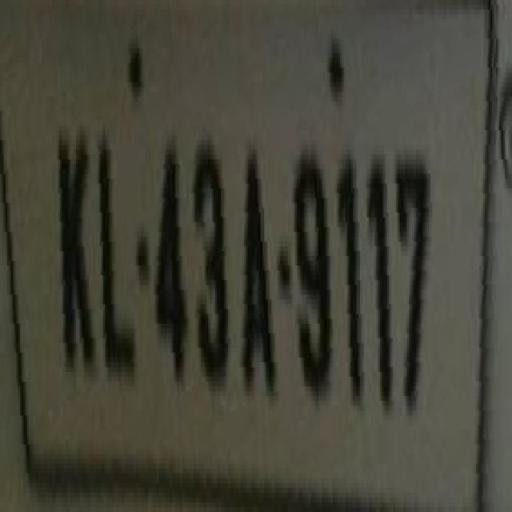number plate: (17, 24, 512, 463)
